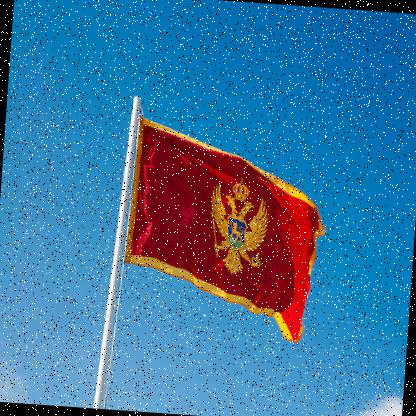me: (122, 116, 337, 347)
